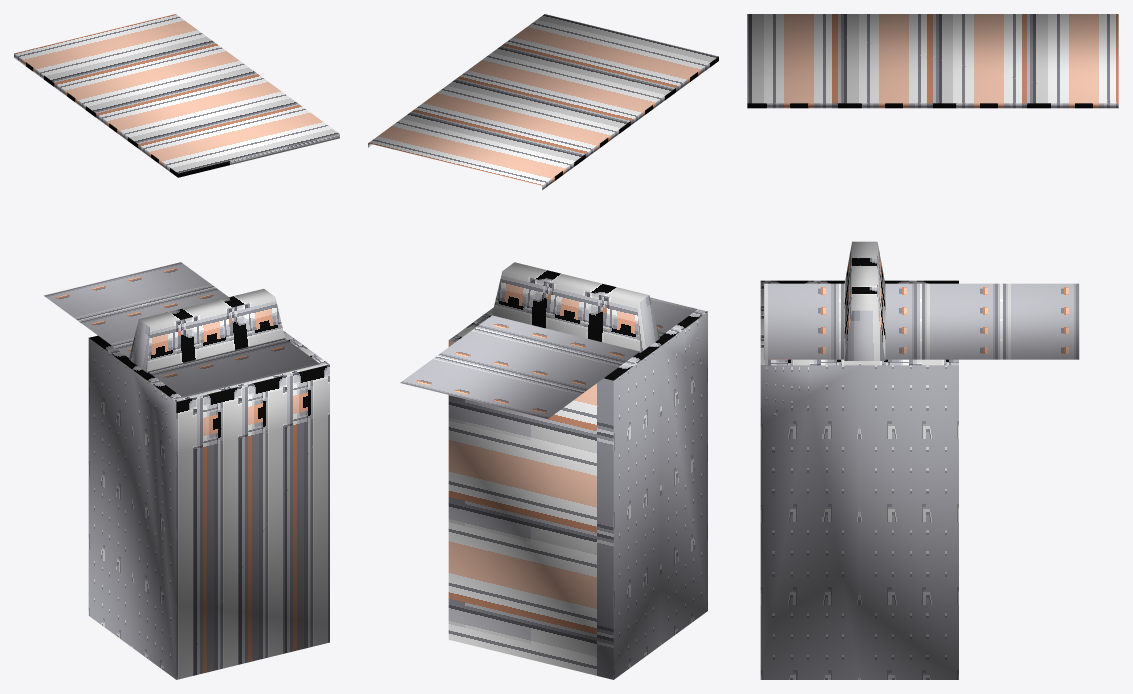
3 views of the same model, side by side, from view 1: azimuth 30°, elevation 25°; view 2: azimuth 150°, elevation 25°; view 3: azimuth 270°, elevation 25° (orthographic). The views are drawn at different scales.
Visible parts, largest first — view 1: 3780kg_sh1_03; view 2: 3780kg_sh1_03; view 3: 3780kg_sh1_03.
Part boxes in pixels (<box>): 3780kg_sh1_03: <box>14,14,339,679</box>; 3780kg_sh1_03: <box>368,14,718,679</box>; 3780kg_sh1_03: <box>747,14,1118,679</box>.
Bounding box in the file's own units: 0.5177 × 1.56 × 0.9091.
3 materials, 3 textured.
